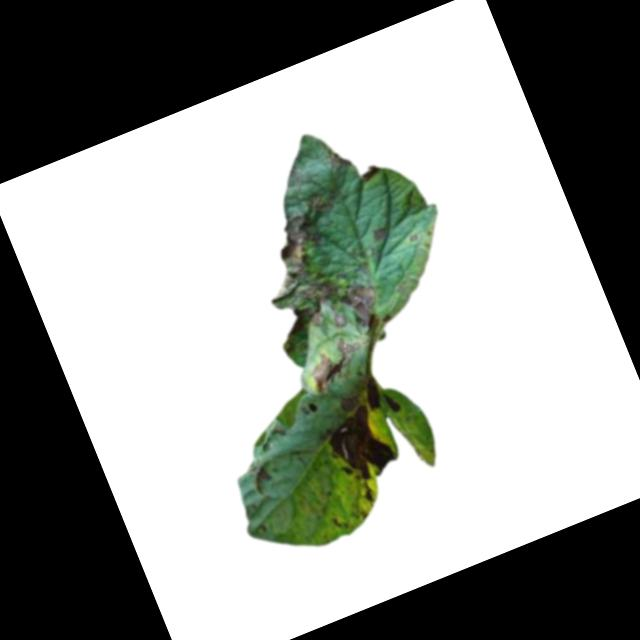Early_blight: (233, 186, 388, 361), (313, 398, 402, 493), (302, 332, 373, 397), (357, 369, 403, 423), (356, 479, 378, 506), (356, 162, 381, 182), (368, 225, 387, 241)
